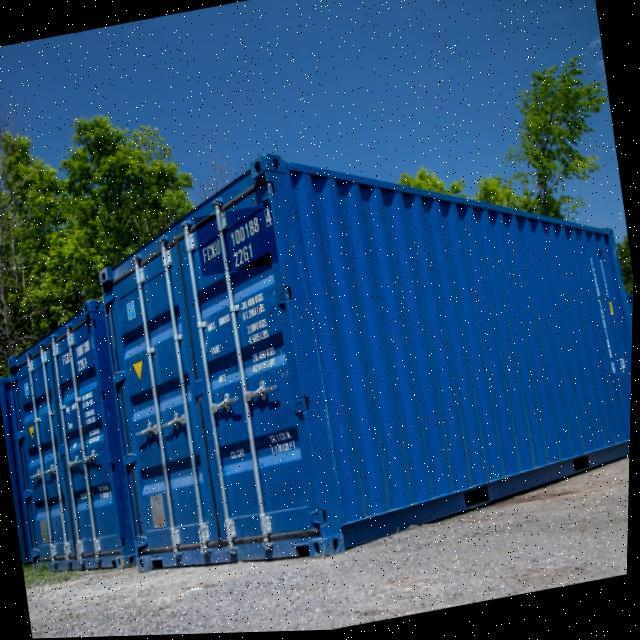container_number_h: (195, 205, 281, 278)
